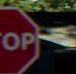Stop: (0, 4, 44, 71)
